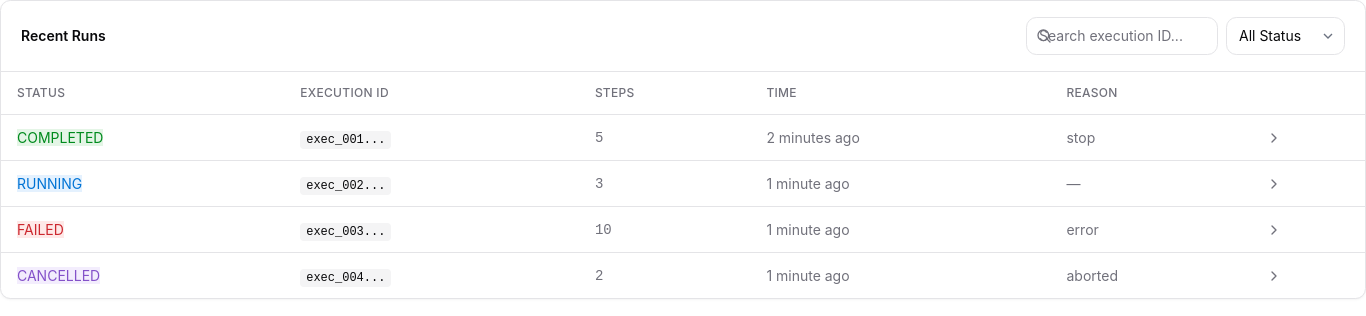
Test case: RunTable Component › should filter runs by search text
Type "exec_001" into the field with placeholder "Search execution ID..." at [1122, 36], box [1026,17,1218,55]
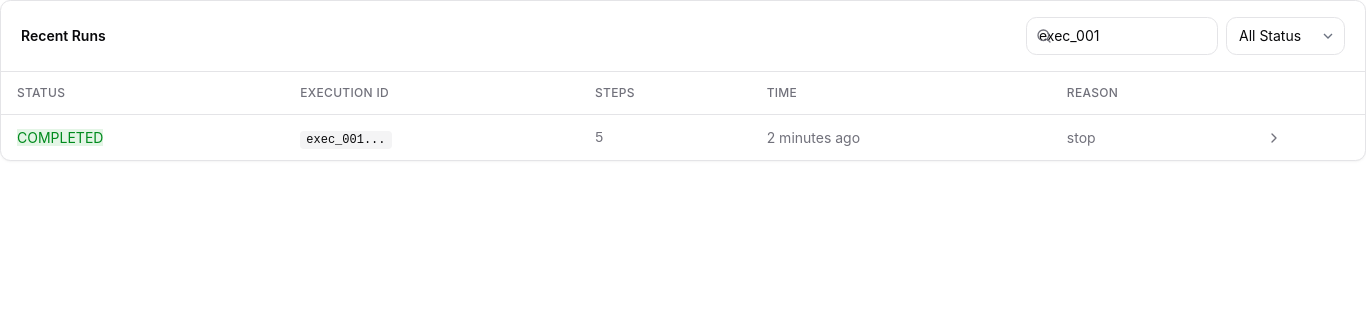
Expected: the text "exec_001..." is shown, [300,131,392,149]
Result: the text "exec_002" is gone
